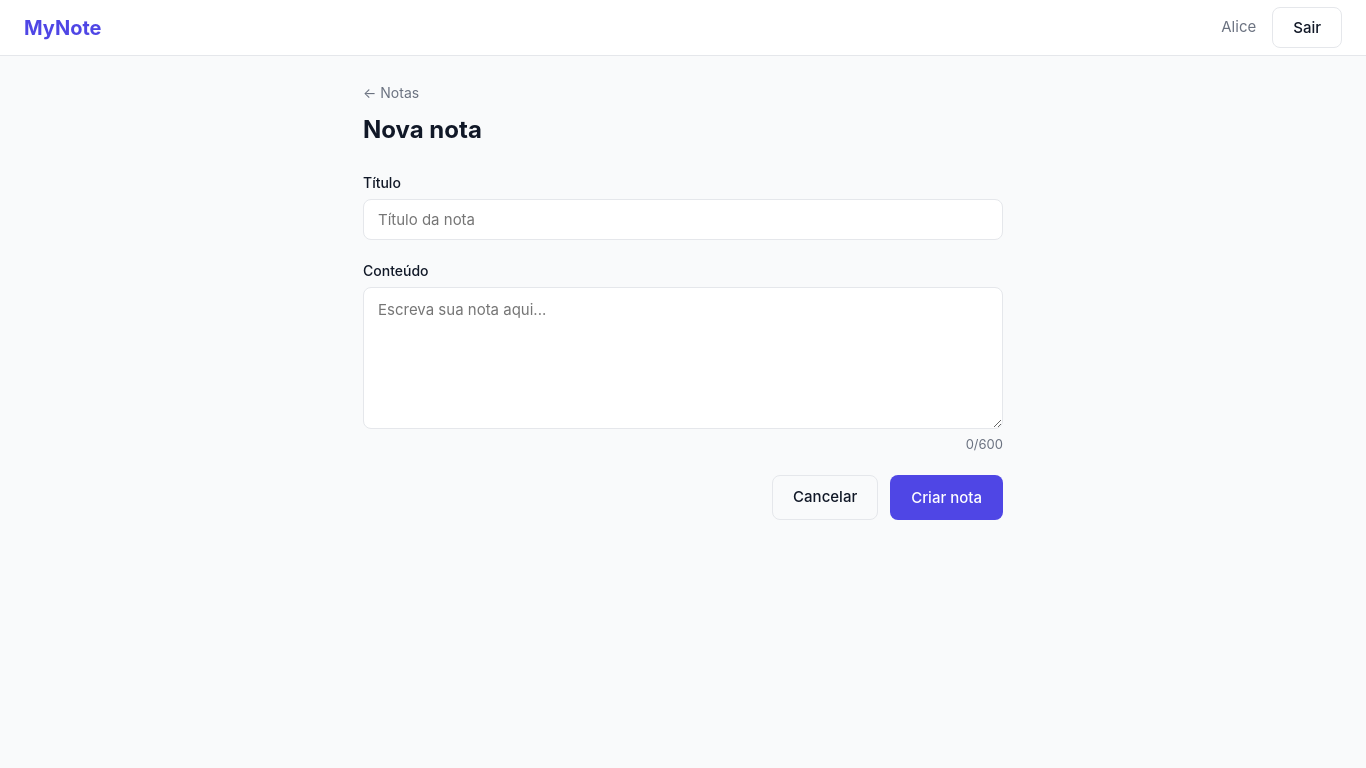
it: NoteNewView › shows error alert and does not navigate when createNote fails
The width and height of the screenshot is (1366, 768).
Type "Título" into the field labelled "Título".
click(683, 220); type("Título")  # box 363,199 -> 1003,240
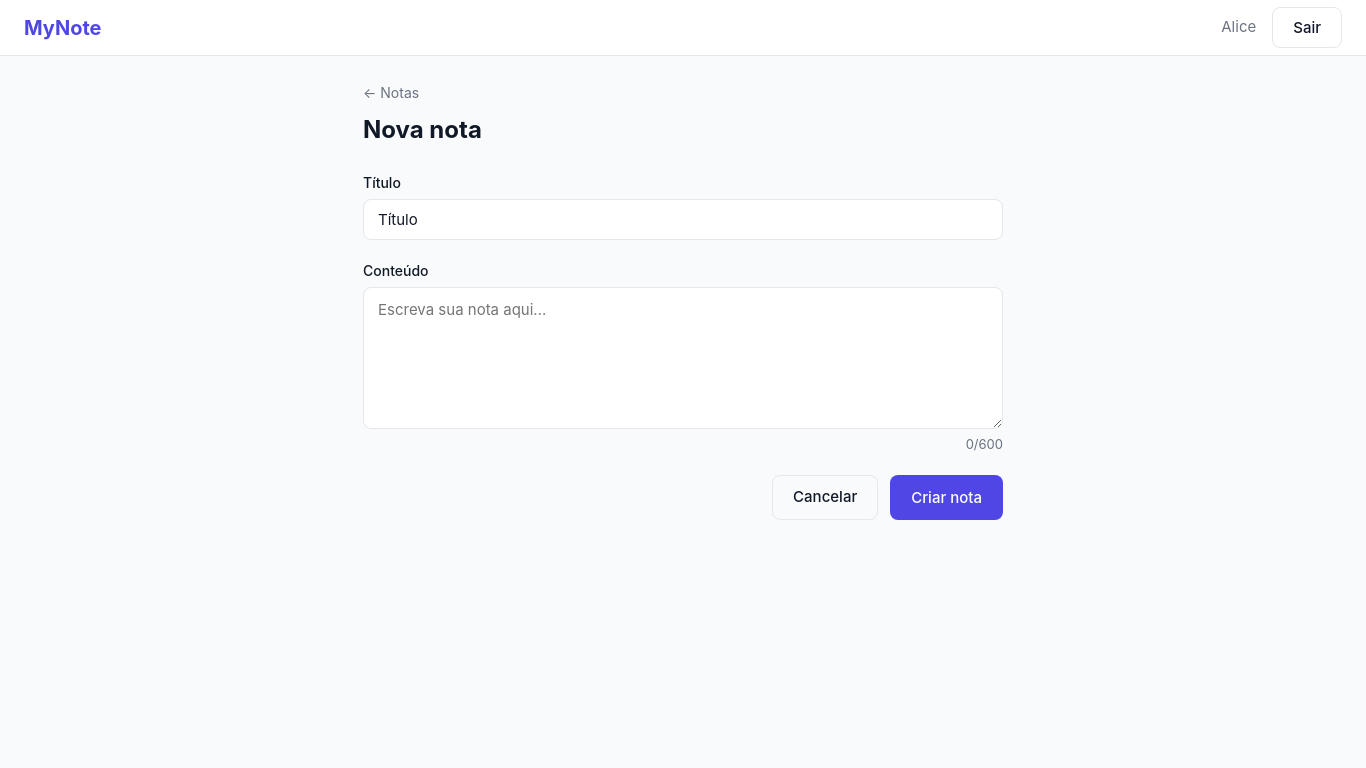
Type "Conteúdo" into the text box labelled "Conteúdo".
click(683, 358); type("Conteúdo")  # box 363,287 -> 1003,429
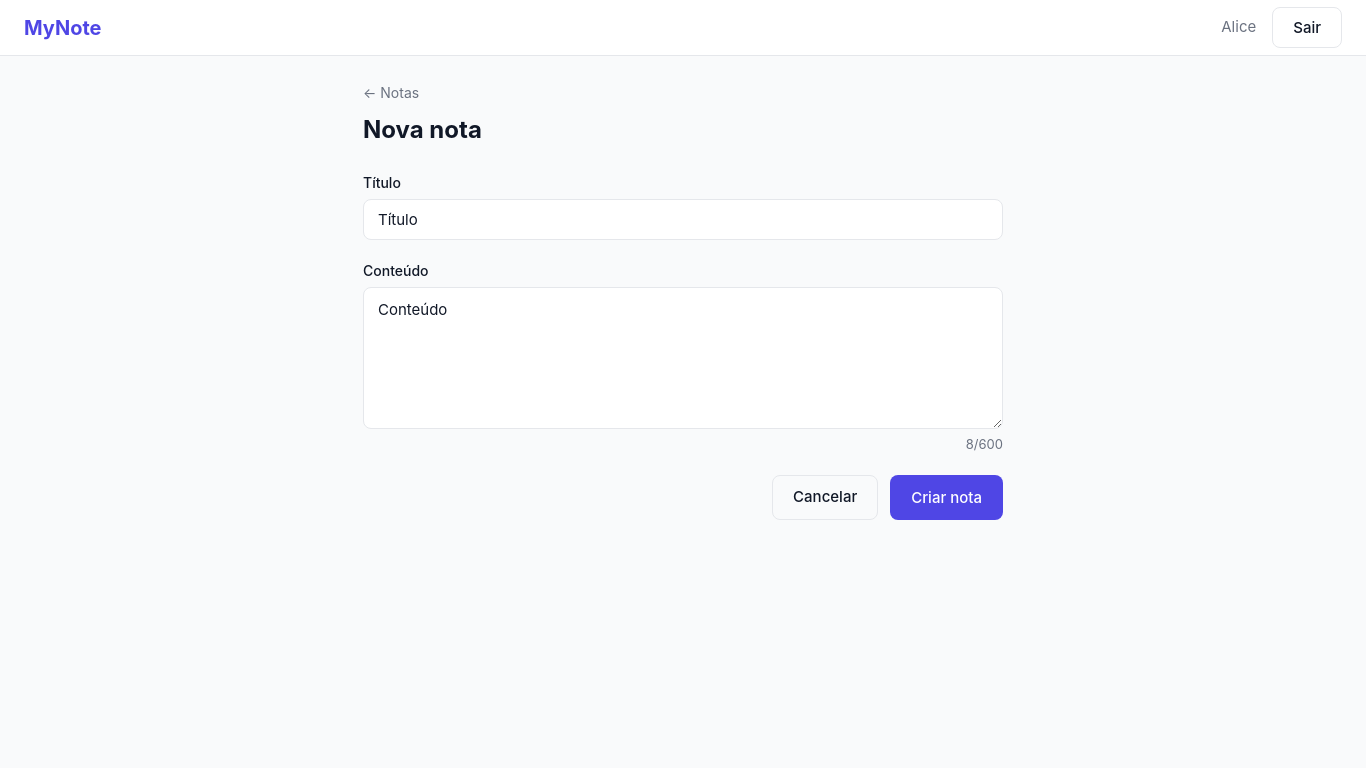
Submit the form, box 363,172 -> 1003,520
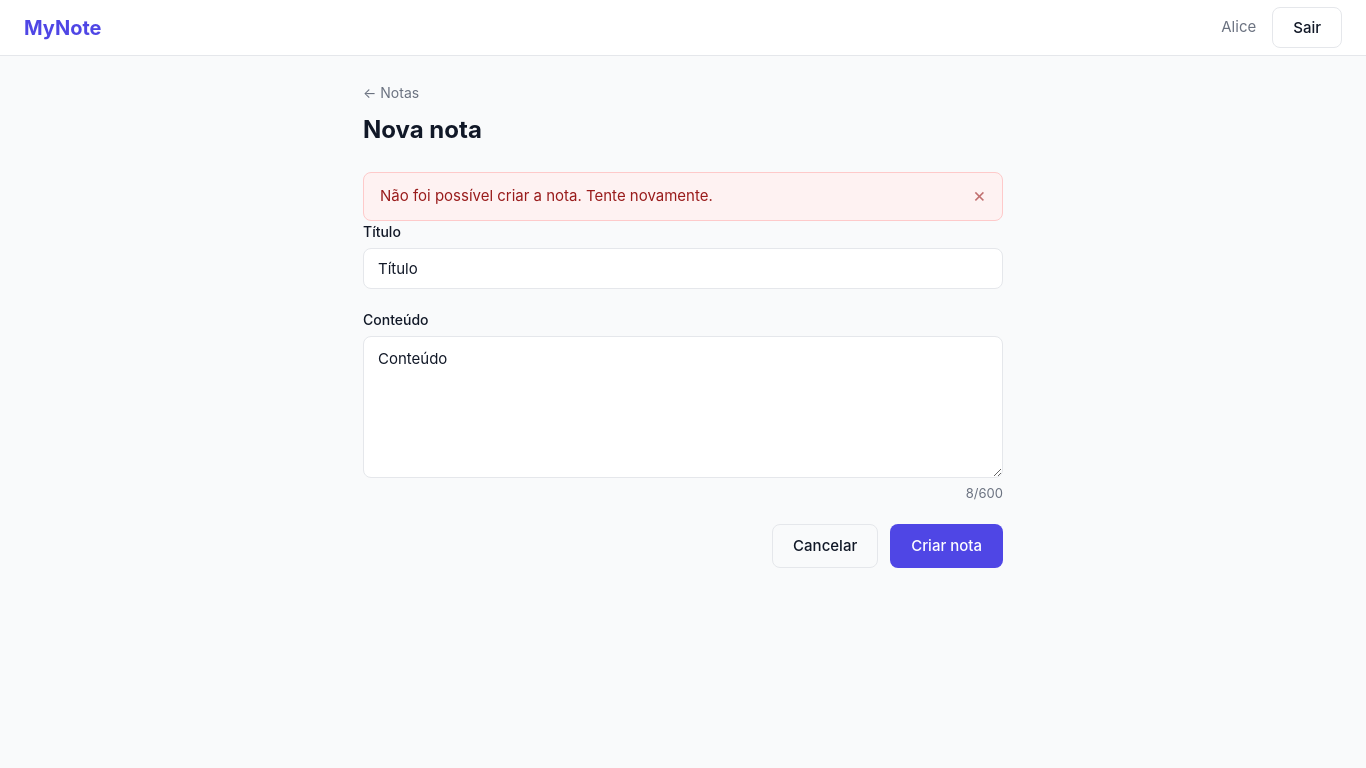
Expected: the text "Não foi possível criar a nota" is shown, 380,186 -> 713,205
